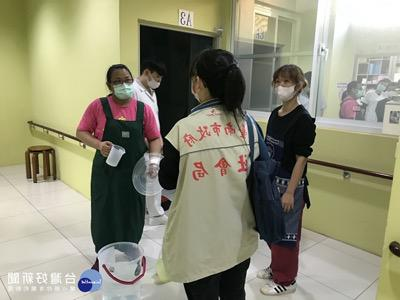mask_weared_incorrect: (145, 73, 163, 89)
with_mask: (272, 76, 299, 101), (110, 74, 133, 99), (190, 70, 205, 103), (386, 87, 399, 99), (352, 87, 363, 100), (375, 82, 387, 92)
